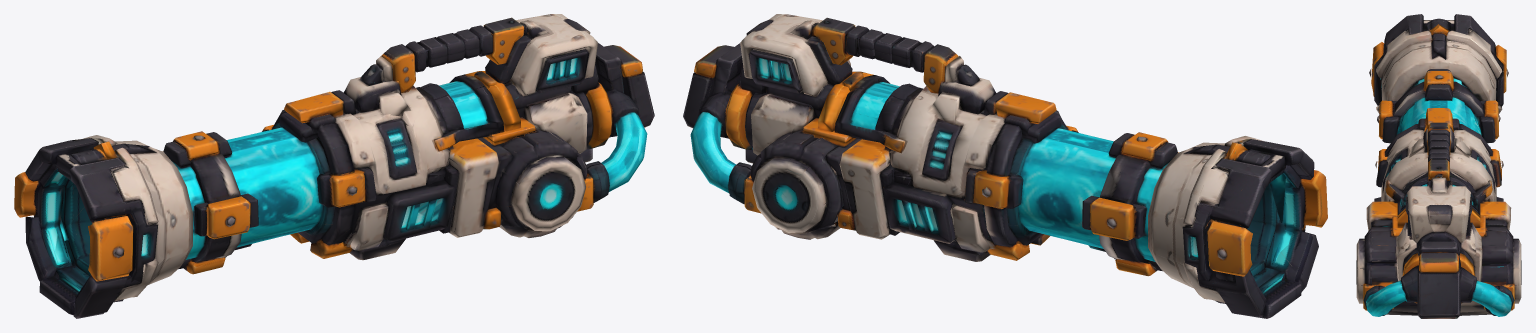
File: Meshy_AI_Arc_Reactor_Cannon_1018200037_texture.fbx
3 views of the same model, side by side, from view 1: azimuth 30°, elevation 25°; view 2: azimuth 150°, elevation 25°; view 3: azimuth 270°, elevation 25° (orthographic). The views are drawn at different scales.
Visible parts, largest first — view 1: Mesh_0; view 2: Mesh_0; view 3: Mesh_0.
Part boxes in pixels (x1=…): Mesh_0: x1=14, y1=14, x2=654, y2=318; Mesh_0: x1=683, y1=14, x2=1327, y2=318; Mesh_0: x1=1356, y1=14, x2=1521, y2=318.
Size of the model in its own units: 39.65 by 12 by 12.
Materials: 1 (1 with a texture image).
